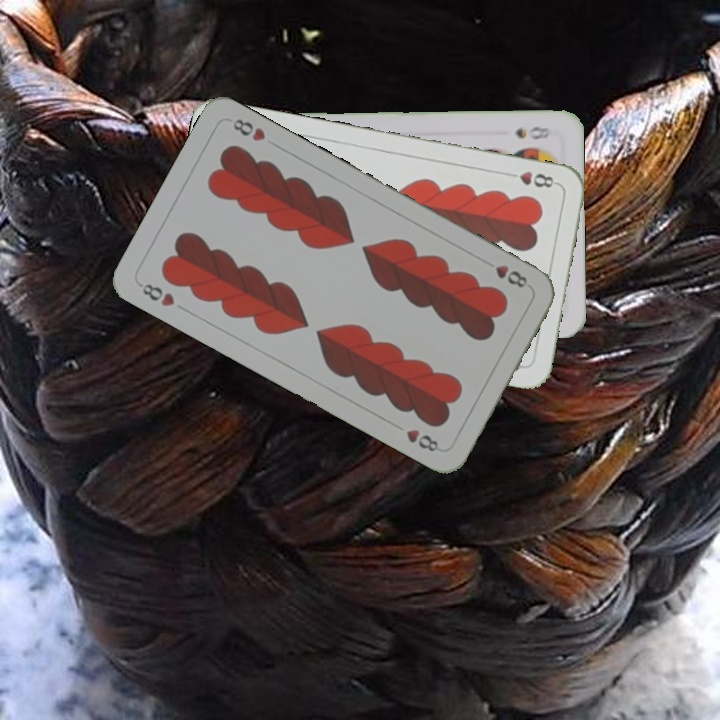H8: (501, 167, 560, 191), (134, 279, 177, 310), (491, 260, 530, 291)
S8: (510, 122, 554, 143)
